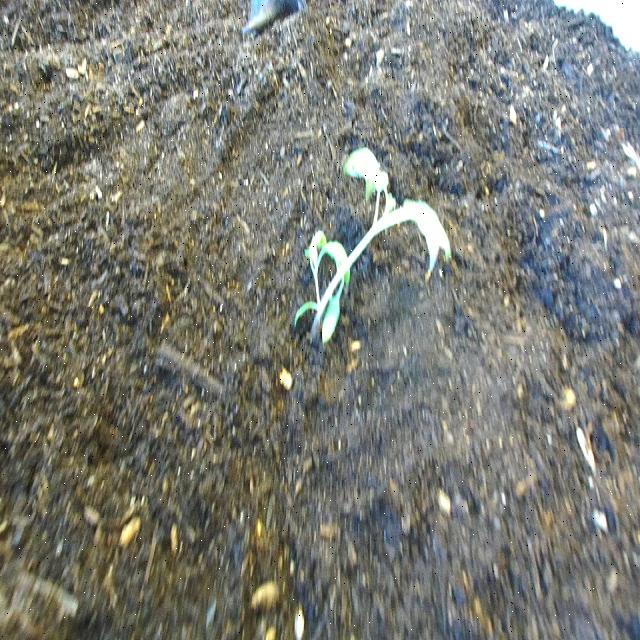Unhealthy: (286, 139, 457, 360)
